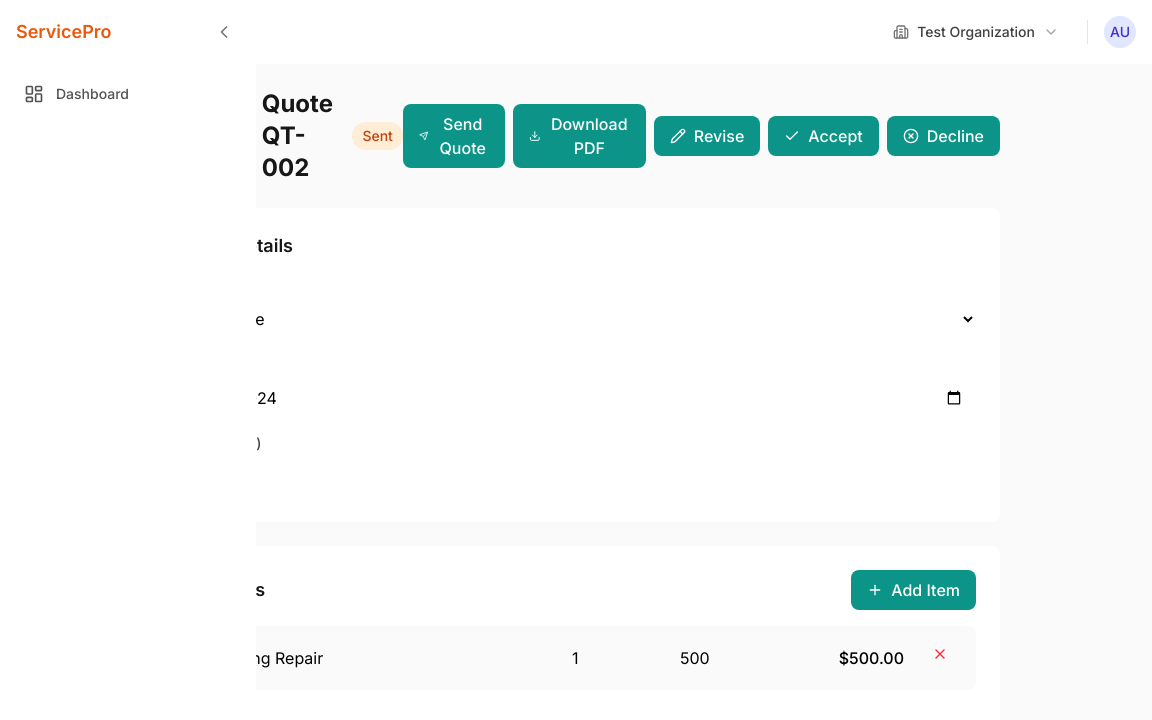
Test: Quote Workflow Integration › Quote Status Transitions › declines a sent quote
The image size is (1152, 720).
What coordinates should you click on to do the following:
click the button "Decline"
I would click on:
 (943, 136)
Its box is [887,116,1000,156].
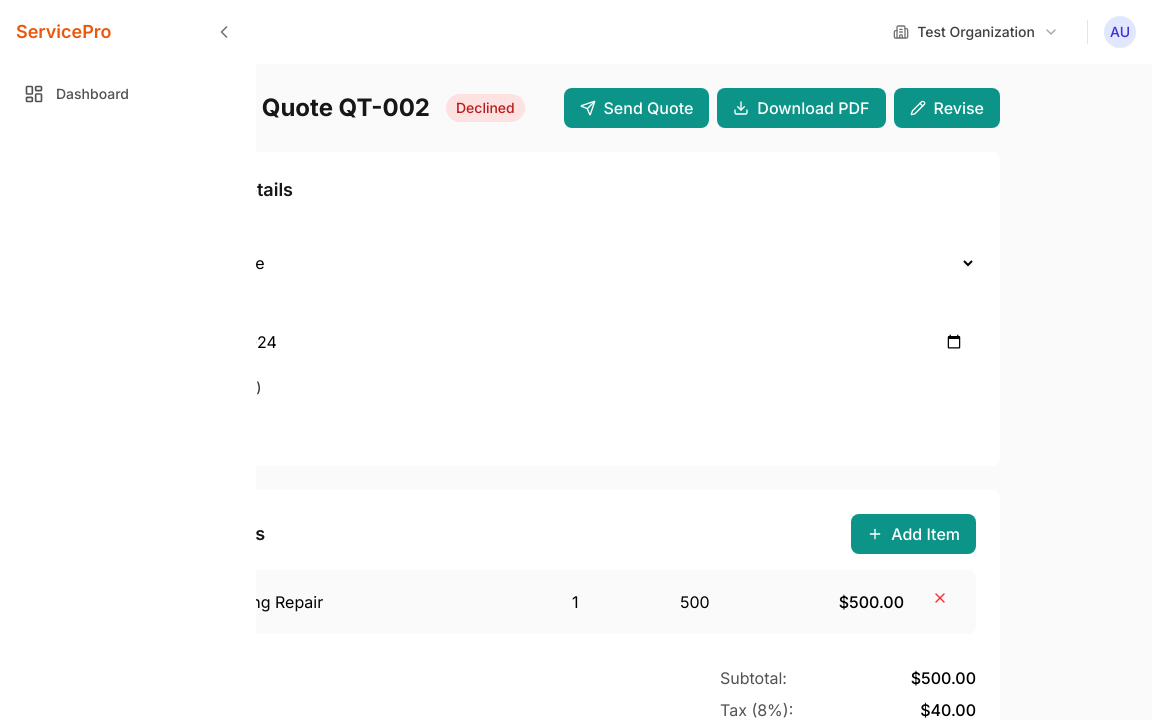
Expected: the button "Revise" is enabled, [894,88,1000,128]
Now the text "Declined" is shown, box [446,94,525,122]
